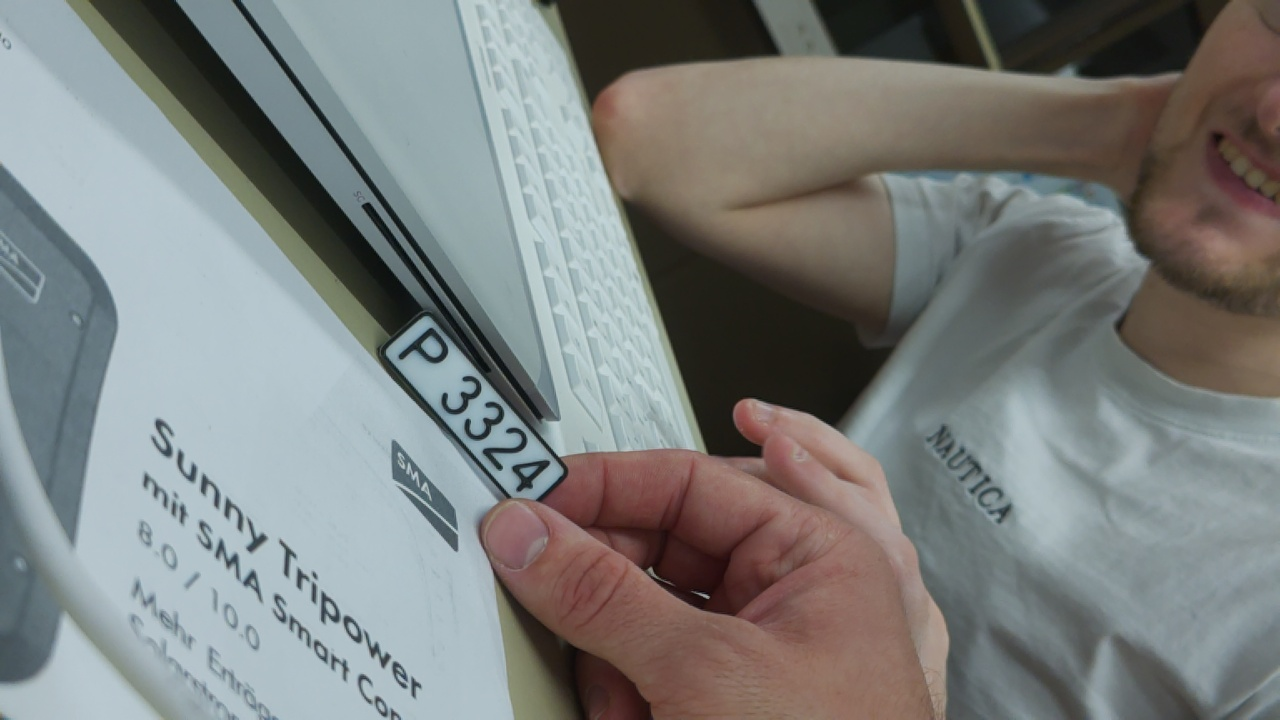license_plate: (372, 288, 577, 516)
